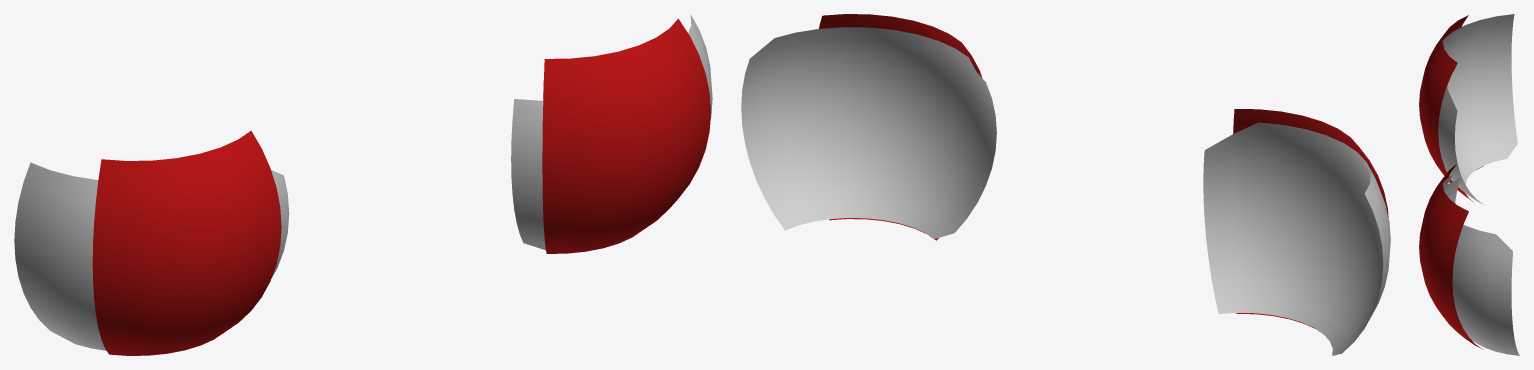
File: Eyes_test.fbx
3 views of the same model, side by side, from view 1: azimuth 30°, elevation 25°; view 2: azimuth 150°, elevation 25°; view 3: azimuth 270°, elevation 25° (orthographic). The views are drawn at different scales.
Parts seen in each view (by area): view 1: Eyes_GRP; view 2: Eyes_GRP; view 3: Eyes_GRP.
Part boxes in pixels (<box>): Eyes_GRP: <box>14,14,712,355</box>; Eyes_GRP: <box>741,14,1390,355</box>; Eyes_GRP: <box>1419,14,1519,355</box>.
Size of the model in its own units: 1.56 by 0.4484 by 0.2829.
